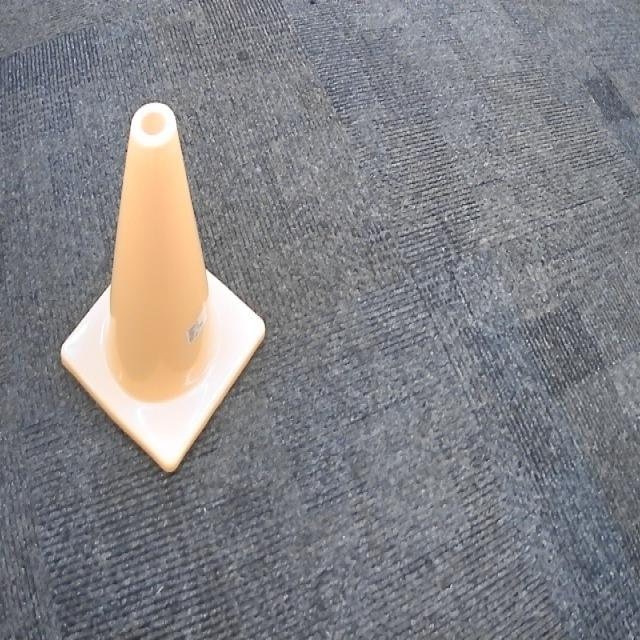cone: (58, 98, 266, 478)
